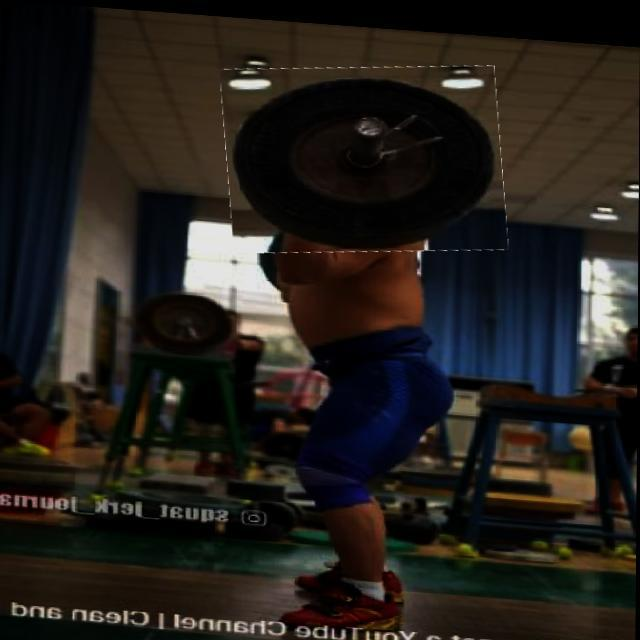barbell: (224, 49, 507, 260)
